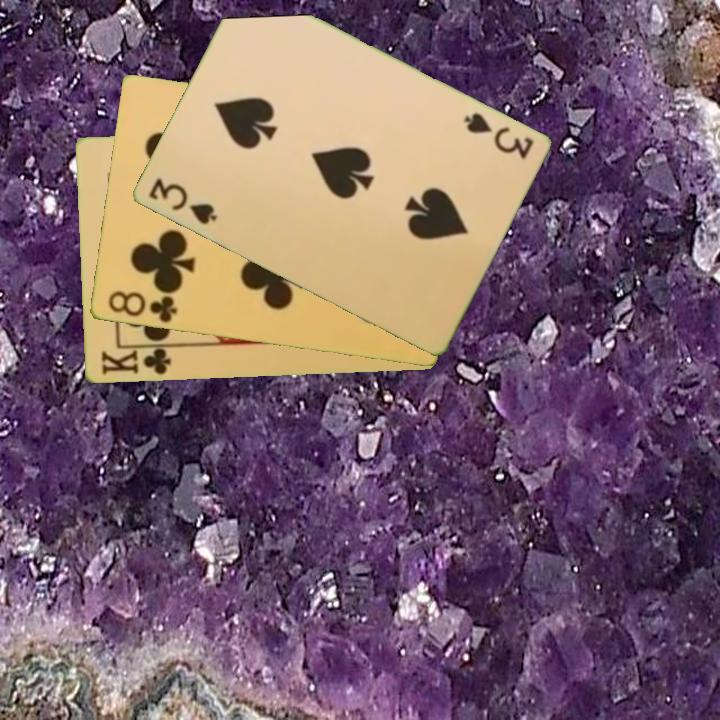3s: (459, 109, 536, 162), (144, 174, 219, 228)
8c: (104, 288, 180, 326)
Kc: (97, 343, 177, 378)
